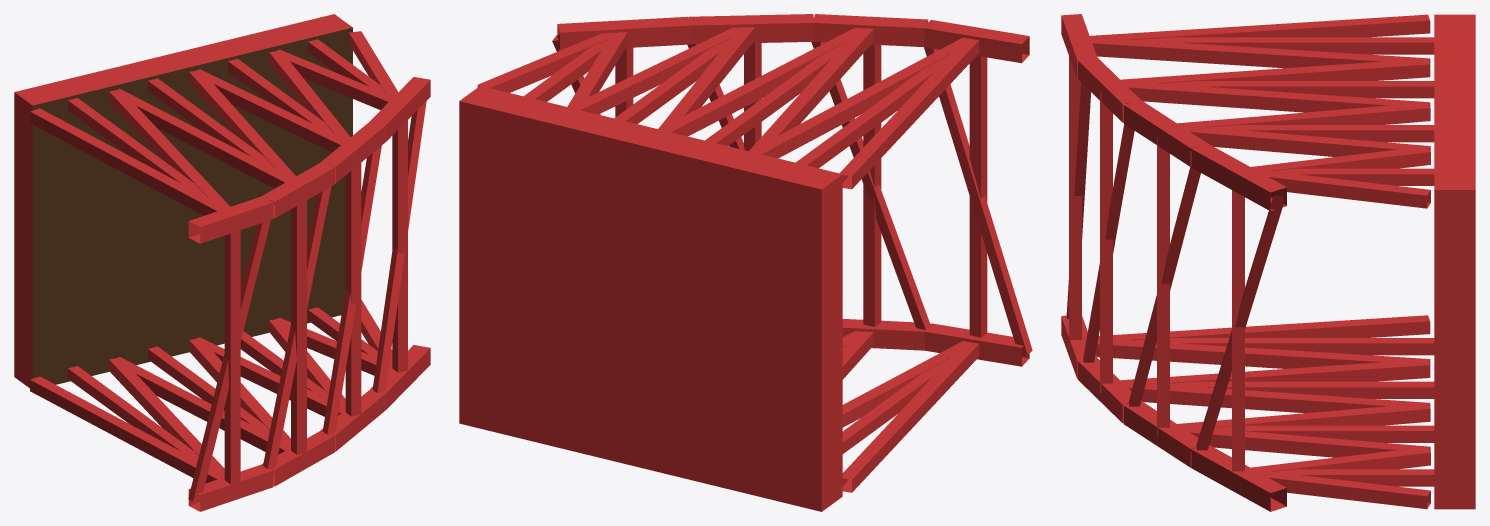
File: south.glb
3 views of the same model, side by side, from view 1: azimuth 30°, elevation 25°; view 2: azimuth 150°, elevation 25°; view 3: azimuth 270°, elevation 25° (orthographic). The views are drawn at different scales.
Parts seen in each view (by area): view 1: bridge_08_south; view 2: bridge_08_south; view 3: bridge_08_south.
Boxes of the visible parts, x1,y1,x2,y2 form: bridge_08_south: (14,14,430,511); bridge_08_south: (459,14,1032,511); bridge_08_south: (1061,14,1475,511).
Size of the model in its own units: 16.54 by 13.6 by 16.
